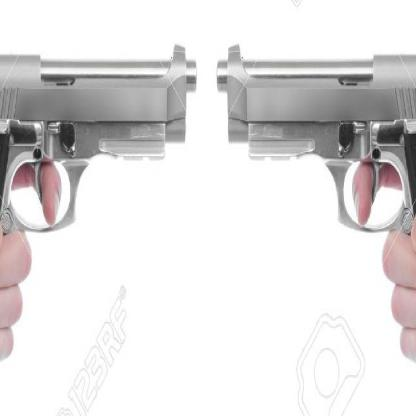gun: (0, 26, 194, 405), (216, 51, 415, 374)
